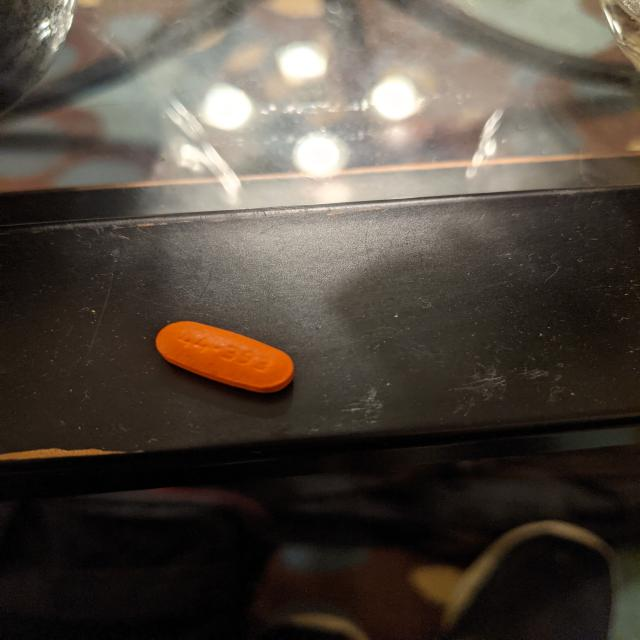non-organic waste: (155, 319, 295, 394)
